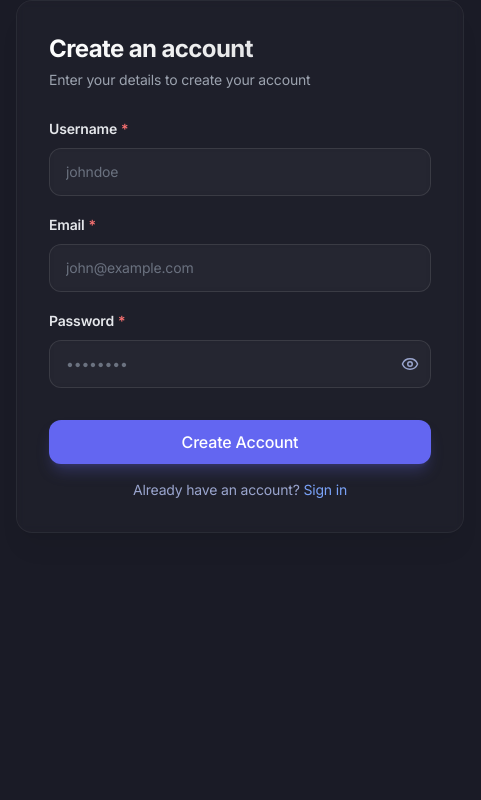
Test: Simple Integration Tests › Authentication Integration › should handle registration with validation
Note: Try to submit with weak password
Type "newuser" into the field with placeholder "johndoe".
click(240, 172); type("newuser")  # box [49,148,431,196]
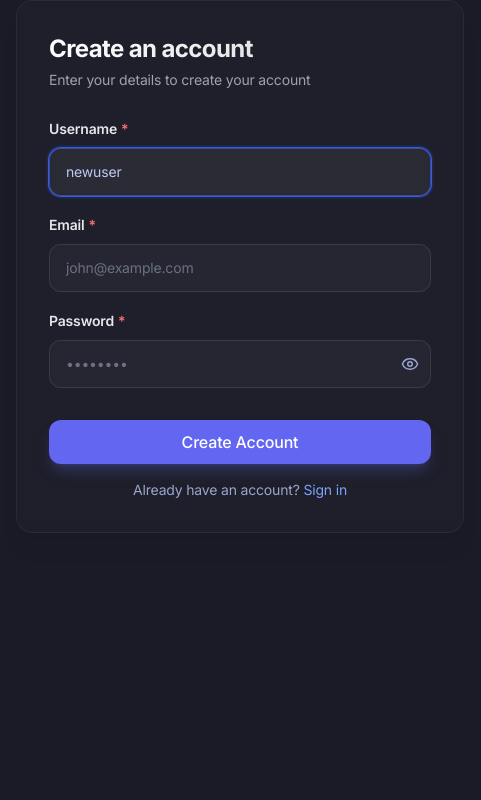
Type "new@example.com" into the field with placeholder "john@example.com".
click(240, 268); type("new@example.com")  # box [49,244,431,292]
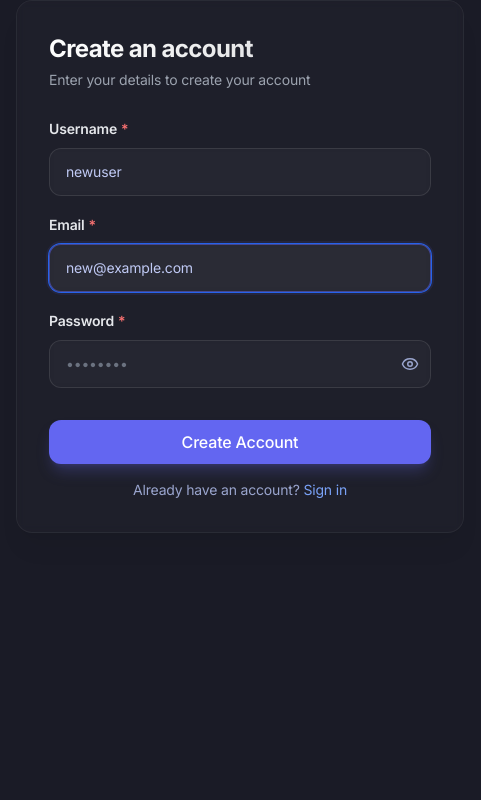
Type "weak" into the password field with placeholder "••••••••".
click(240, 364); type("weak")  # box [49,340,431,388]
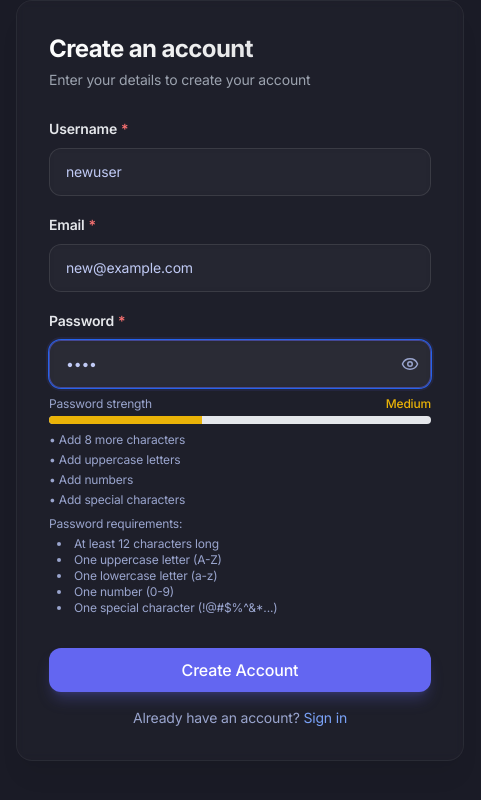
Click the button "Create Account".
click(240, 670)  # box [49,648,431,692]
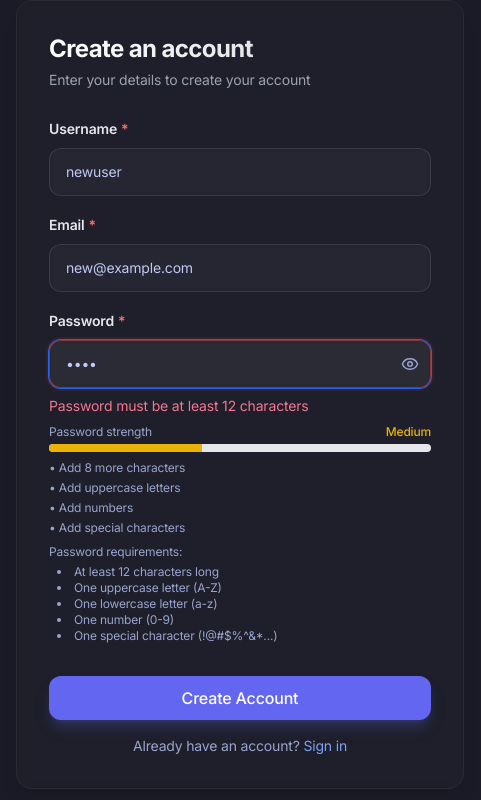
expect the text "Password must be at least 12 characters" is shown: met, box [49,397,308,414]
